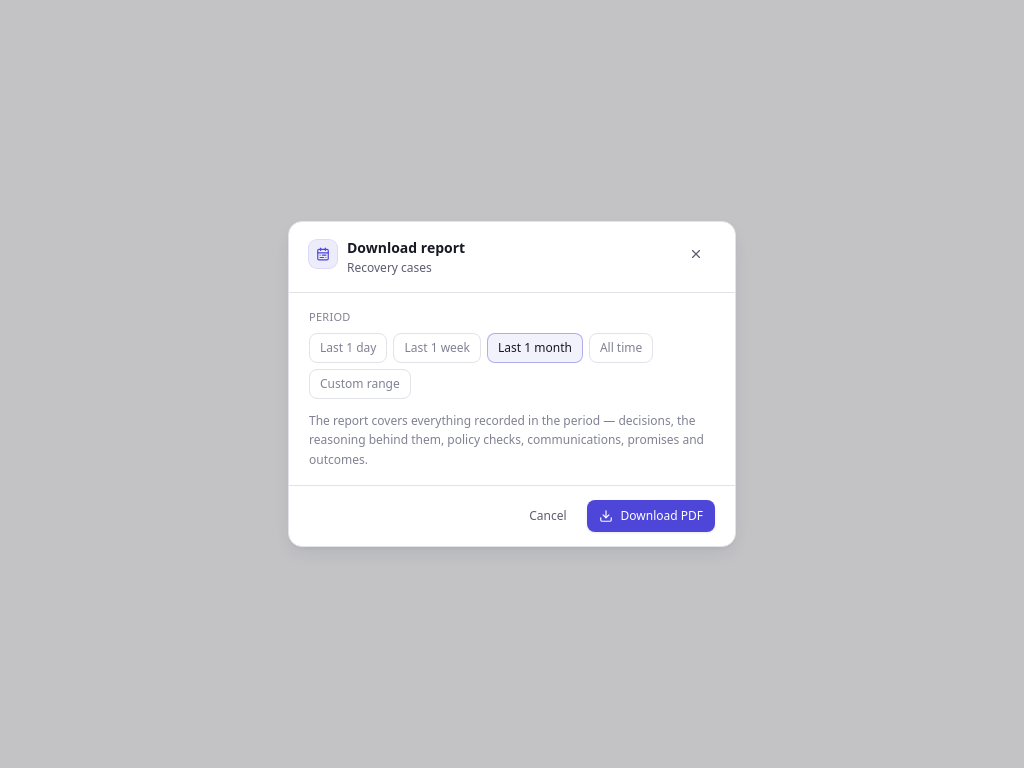
Test: choosing a period › only shows date inputs for a custom range
The width and height of the screenshot is (1024, 768).
expect the field labelled "from" is not shown: met
Click the radio button labelled "Custom range".
click(360, 384)  # box [309, 369, 411, 399]
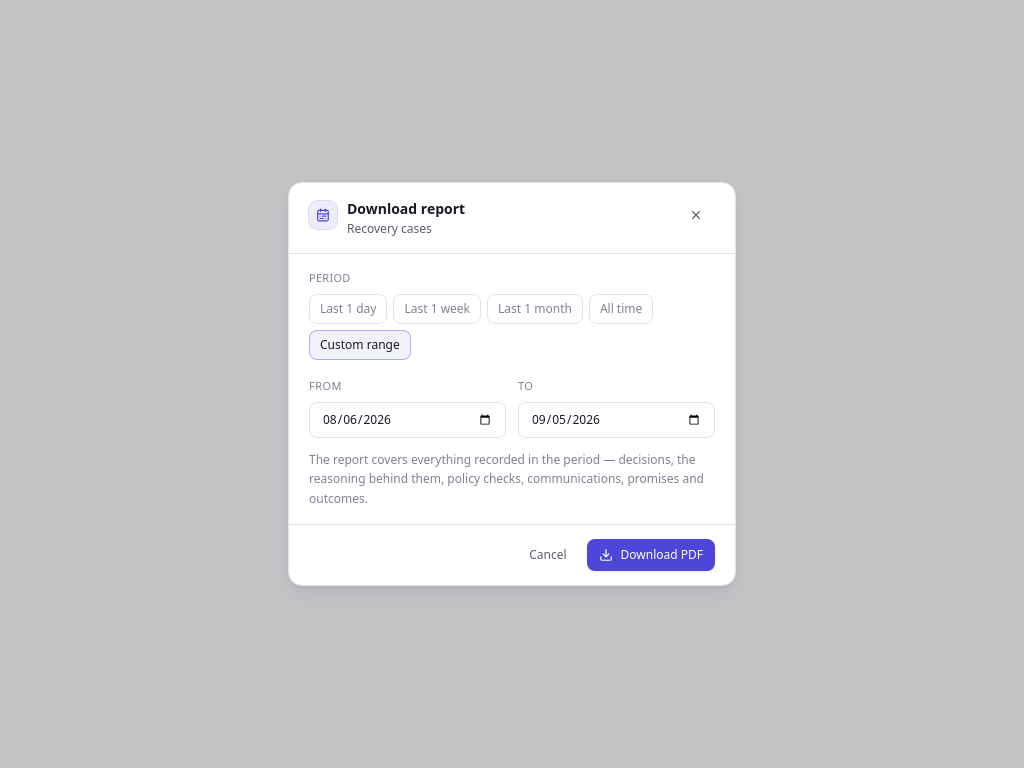
expect the date field labelled "From" is shown: met, box [309, 402, 506, 438]
expect the date field labelled "To" is shown: met, box [518, 402, 715, 438]
